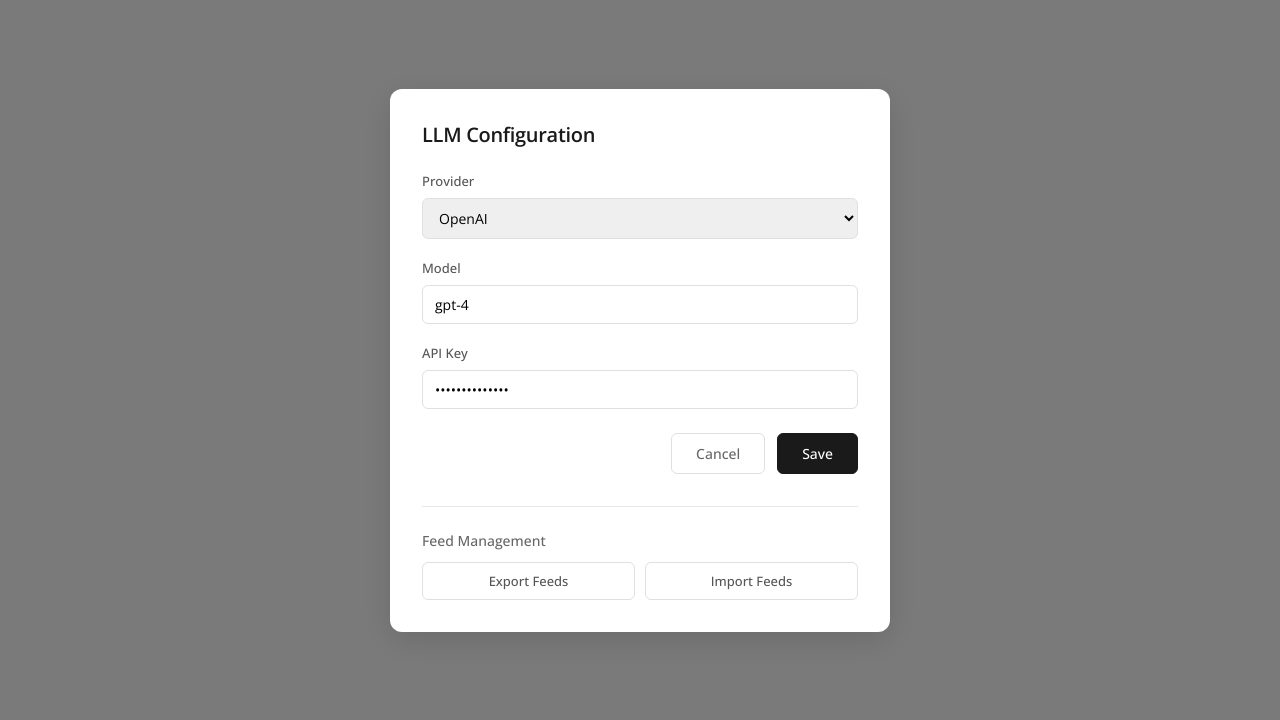
Test: SettingsModal › should show Base URL field for Custom provider
Select "Custom (OpenAI-compatible)" in the dropdown at (640, 218), box [422,198,858,238]
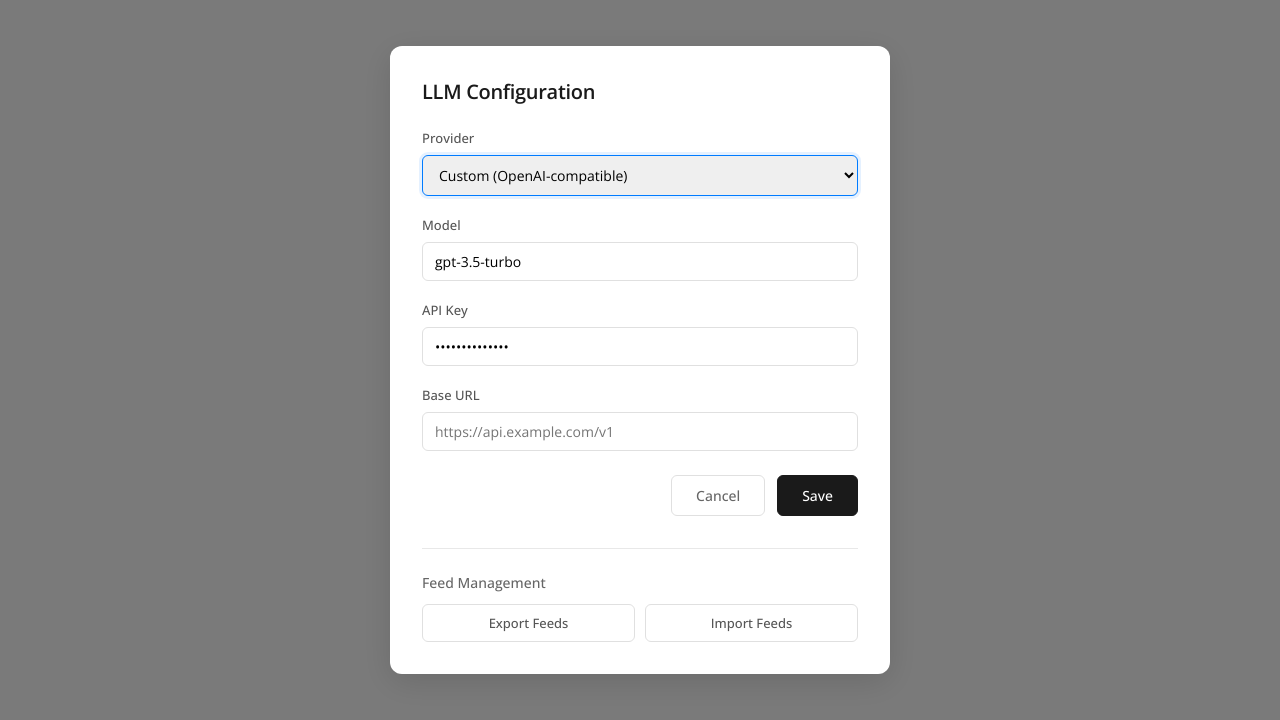
Expected: the field with placeholder "https://api.example.com/v1" is shown, [422,412,858,451]
